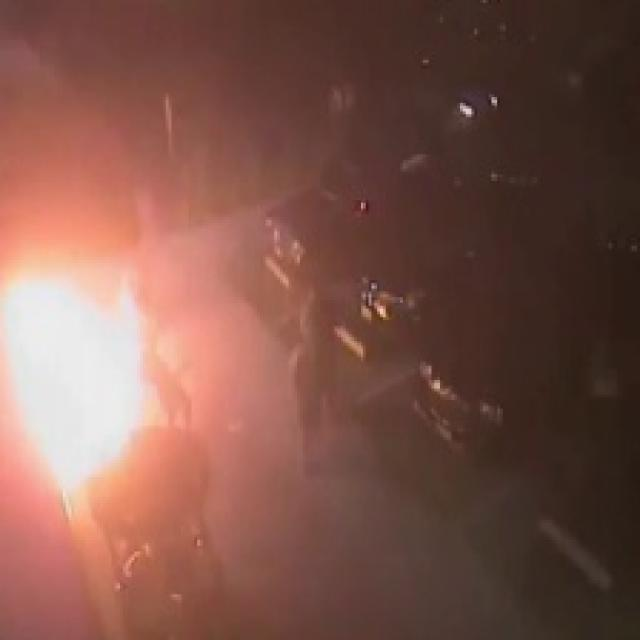fire: (1, 268, 150, 488)
